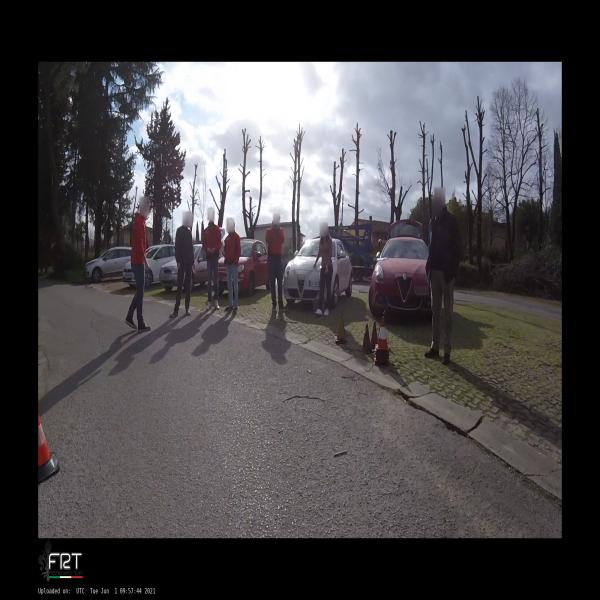large_orange_cone: (38, 413, 60, 484)
orange_cone: (376, 316, 389, 350)
unknown_cone: (360, 323, 374, 354), (334, 312, 347, 342), (371, 322, 378, 348)
